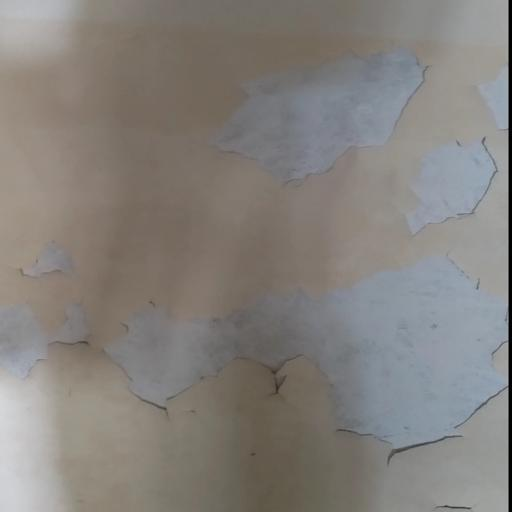peeling: (0, 234, 512, 461), (217, 40, 512, 236)
